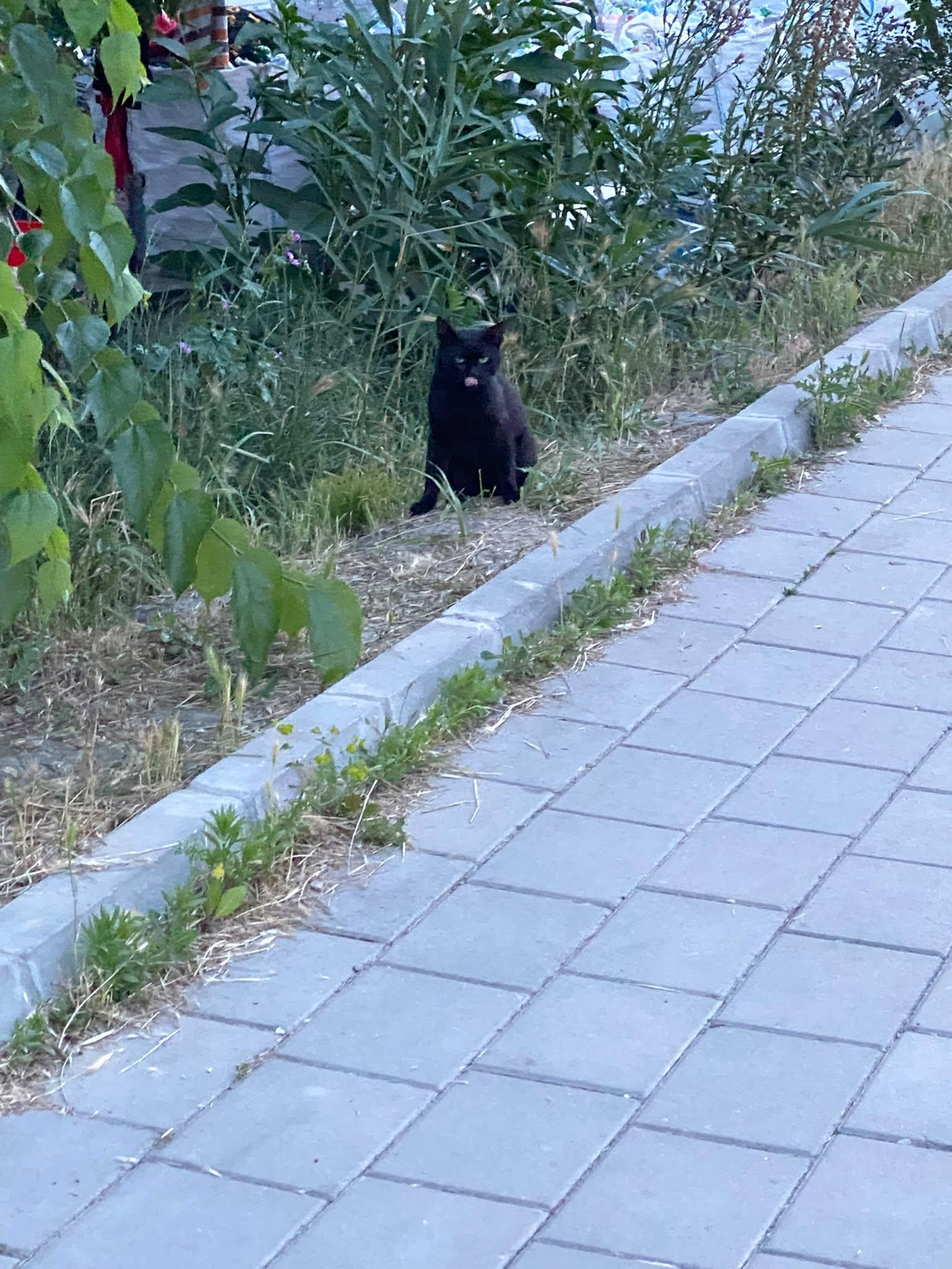macka: (411, 317, 543, 512)
